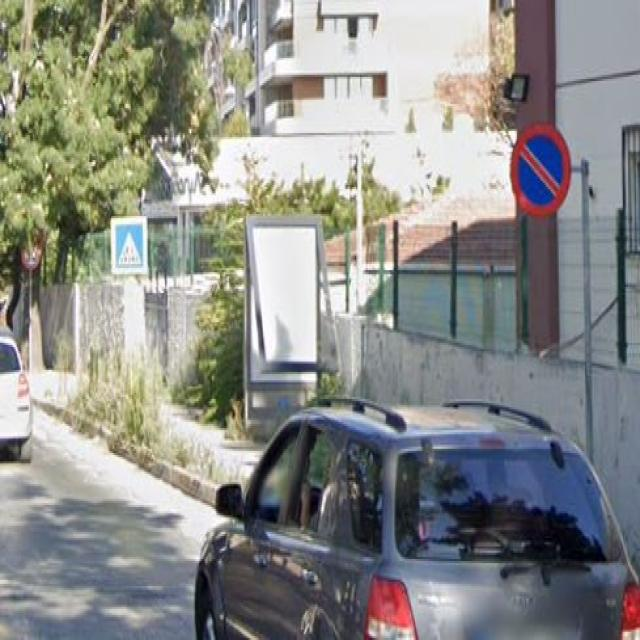parkyasak: (510, 125, 572, 218)
